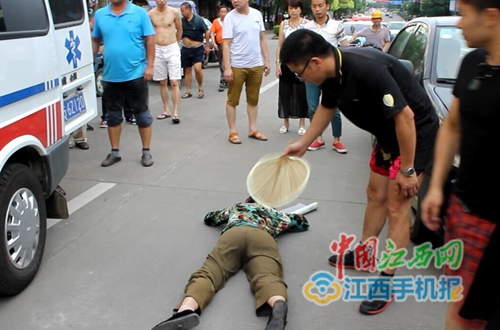10+: (62, 1, 495, 322)
down: (153, 186, 319, 327)
